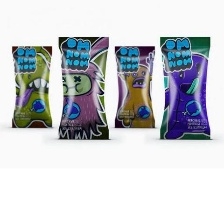snack: (153, 30, 215, 145), (51, 29, 113, 142), (3, 41, 58, 131), (110, 40, 160, 131)
